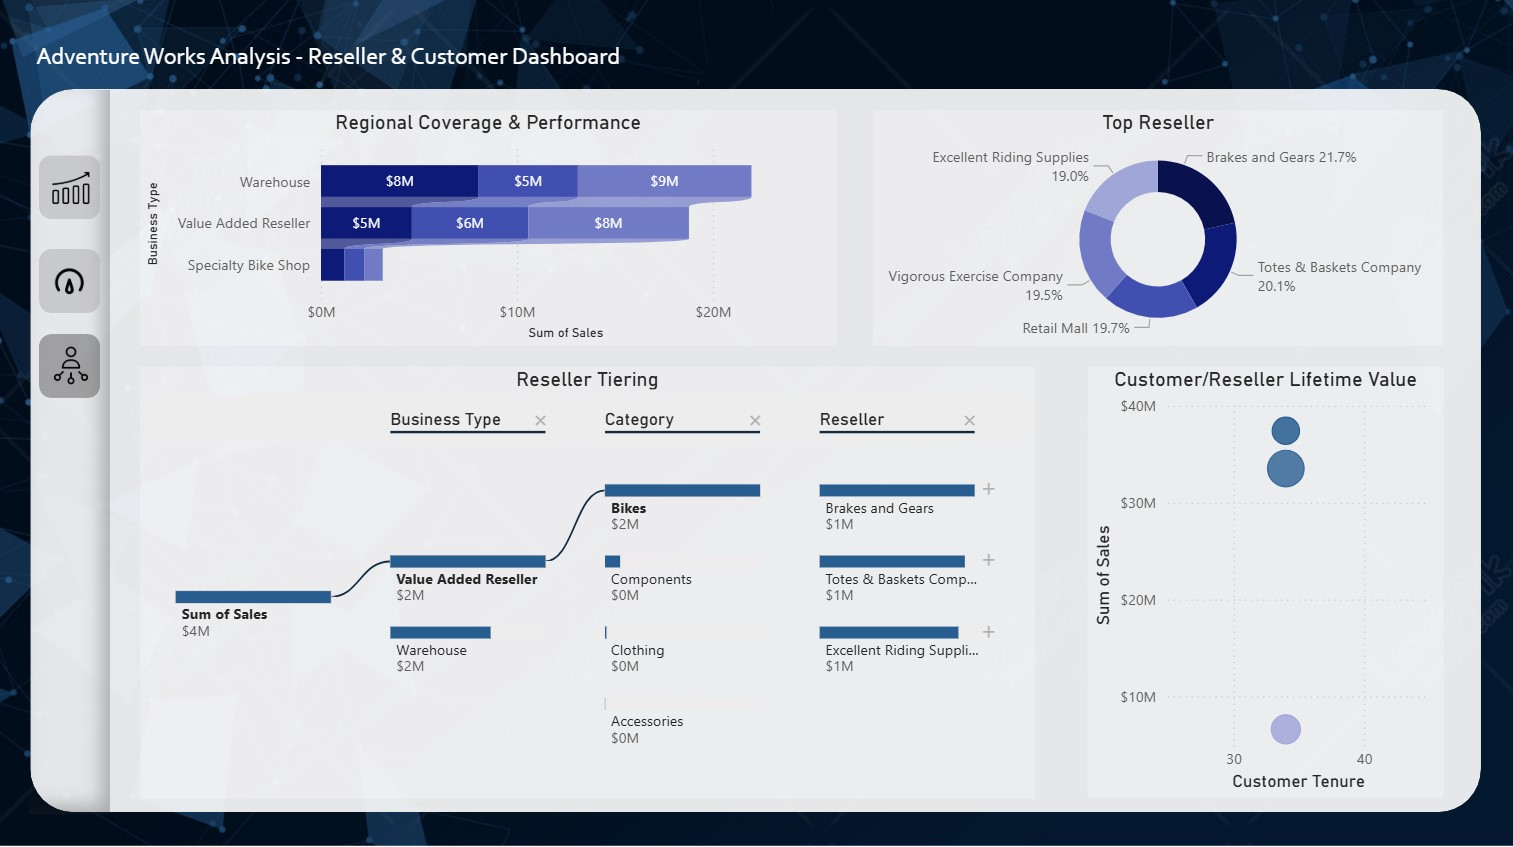

The page's visual inventory and layout, read from the dashboard file:
{"tool":"powerbi","page":{"name":"Reseller & Customer Dashboard","canvas":[1280,720],"ordinal":2},"visuals":[{"type":"image","box":[0,0,1280,720],"z":0},{"type":"shape","box":[30,80,1216.7,606.7],"z":1000},{"type":"shape","box":[29.3,80.5,68.3,607.3],"z":2000},{"type":"decompositionTreeVisual","title":"Reseller Tiering","fields":{"ExplainBy":["Reseller.Business Type","Product.Category","Reseller.Reseller","Region.Region"],"Analyze":["Sum(Sales.Sales)"]},"box":[122.5,312.5,750,362.5],"z":3000},{"type":"textbox","title":"Adventure Works Analysis - Reseller & Customer Dashboard","box":[30,40,527.5,30],"z":5000},{"type":"shape","box":[37.5,135,51.2,53.8],"z":6000},{"type":"shape","box":[37.5,213.8,51.2,53.8],"z":7000},{"type":"shape","box":[37.5,285,51.2,53.8],"z":8000},{"type":"donutChart","title":"Top Reseller","fields":{"Category":["Reseller.Reseller"],"Y":["Sum(Sales.Sales)"]},"box":[737.5,97.5,478.8,197.5],"z":9000},{"type":"barChart","title":"Regional Coverage & Performance","fields":{"Category":["Reseller.Business Type"],"Y":["Sum(Sales.Sales)"],"Series":["Region.Region"]},"box":[122.5,97.5,583.8,197.5],"z":10000},{"type":"scatterChart","title":"Customer/Reseller Lifetime Value","fields":{"Y":["Sum(Sales.Sales)"],"Size":["_Measures.Profit Margin"],"X":["_Measures.Customer Tenure"],"Category":["Reseller.Business Type"]},"box":[917.5,312.5,298.8,361.2],"z":11000},{"type":"image","box":[41.7,285.8,43.3,53.3],"z":14001},{"type":"image","box":[43.8,220,38.8,42.5],"z":14002},{"type":"image","box":[42.5,140,41.7,42.5],"z":14003}]}

Visuals, with their boxes on the page's 1280x720 design canvas (x1, y1, x2, y2). These are canvas units, not pixel positions in the 1513x847 screenshot, which may show the page scaled, cropped or inside an application window:
image: [0, 0, 1280, 720]
shape: [30, 80, 1247, 687]
shape: [29, 80, 98, 688]
"Reseller Tiering" decompositionTreeVisual: [122, 312, 872, 675]
"Adventure Works Analysis - Reseller & Customer Dashboard" textbox: [30, 40, 558, 70]
shape: [38, 135, 89, 189]
shape: [38, 214, 89, 268]
shape: [38, 285, 89, 339]
"Top Reseller" donutChart: [738, 98, 1216, 295]
"Regional Coverage & Performance" barChart: [122, 98, 706, 295]
"Customer/Reseller Lifetime Value" scatterChart: [918, 312, 1216, 674]
image: [42, 286, 85, 339]
image: [44, 220, 83, 262]
image: [42, 140, 84, 182]
